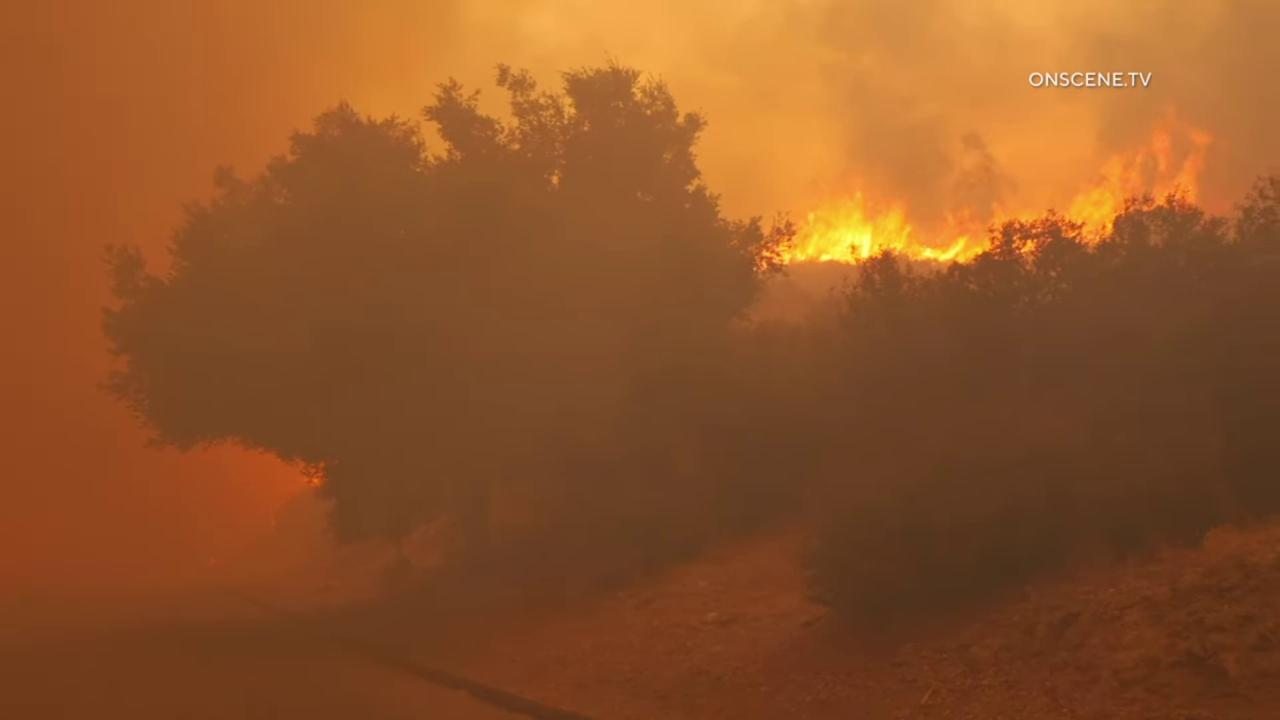fire: (744, 103, 1221, 276), (301, 457, 335, 495)
smoke: (0, 0, 1280, 720)
